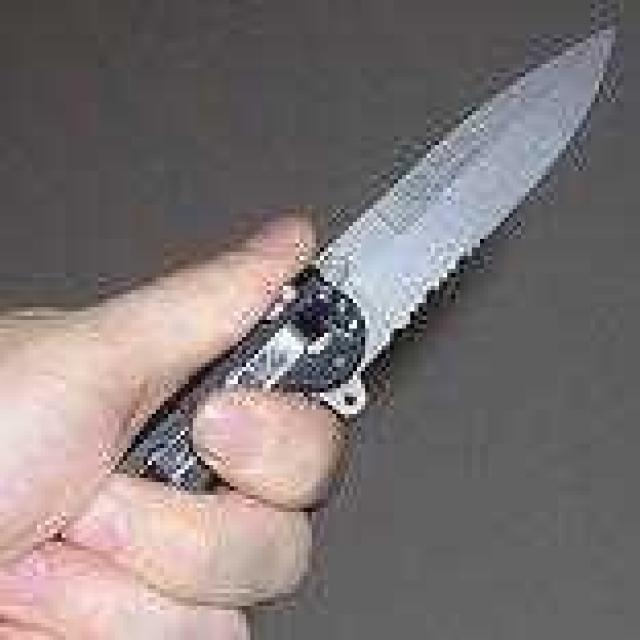knife: (107, 0, 628, 538)
